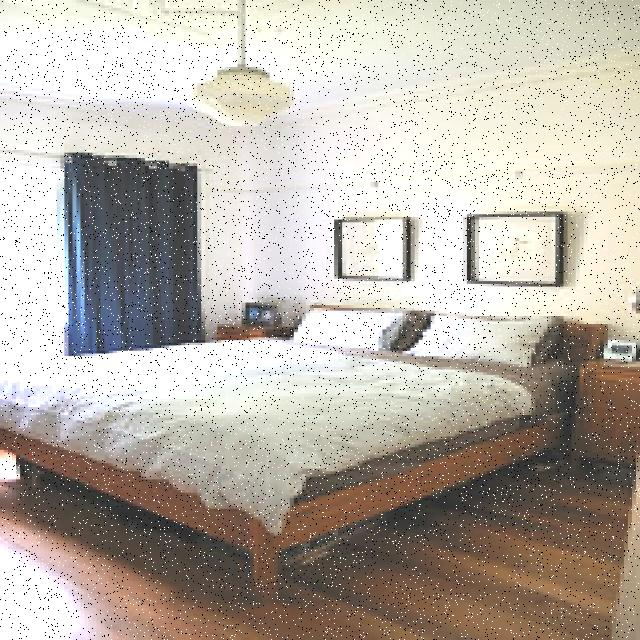bed: (0, 302, 586, 540)
